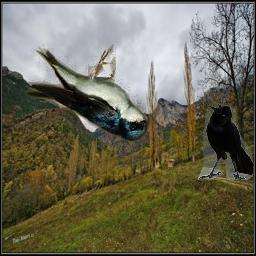Crow: (199, 102, 254, 180)
Swallow: (22, 44, 150, 142)
